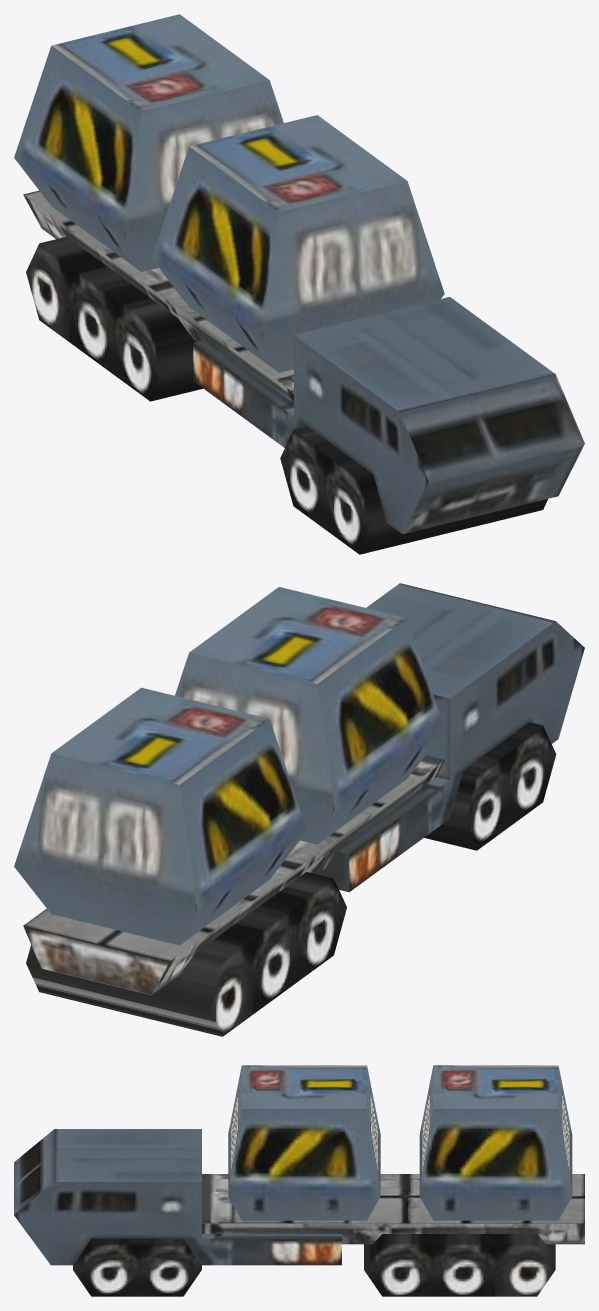
Rendered from ordnancetruckprop_hdtex.glb.
The picture shows the model from 3 angles, top to bottom: view 1: azimuth 30°, elevation 25°; view 2: azimuth 150°, elevation 25°; view 3: azimuth 270°, elevation 25°; orthographic projection. The views are drawn at different scales.
Visible parts, largest first — view 1: ordnancetruckprop; view 2: ordnancetruckprop; view 3: ordnancetruckprop.
Part boxes in pixels (box(x1,y1,x2,y2)): ordnancetruckprop: box(14, 14, 584, 554); ordnancetruckprop: box(14, 583, 584, 1036); ordnancetruckprop: box(14, 1065, 584, 1296).
Bounding box in the file's own units: 3 × 4.01 × 11.62.
Materials: 1 (1 with a texture image).
